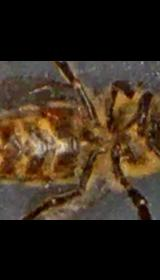varroa_mite: (42, 106, 64, 128)
